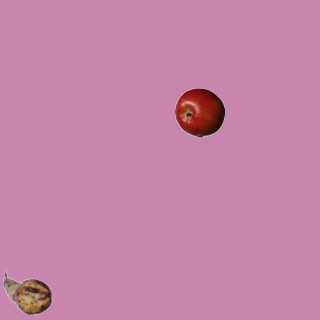Apple Braeburn: (174, 87, 224, 137)
Pear Abate: (2, 267, 52, 317)
